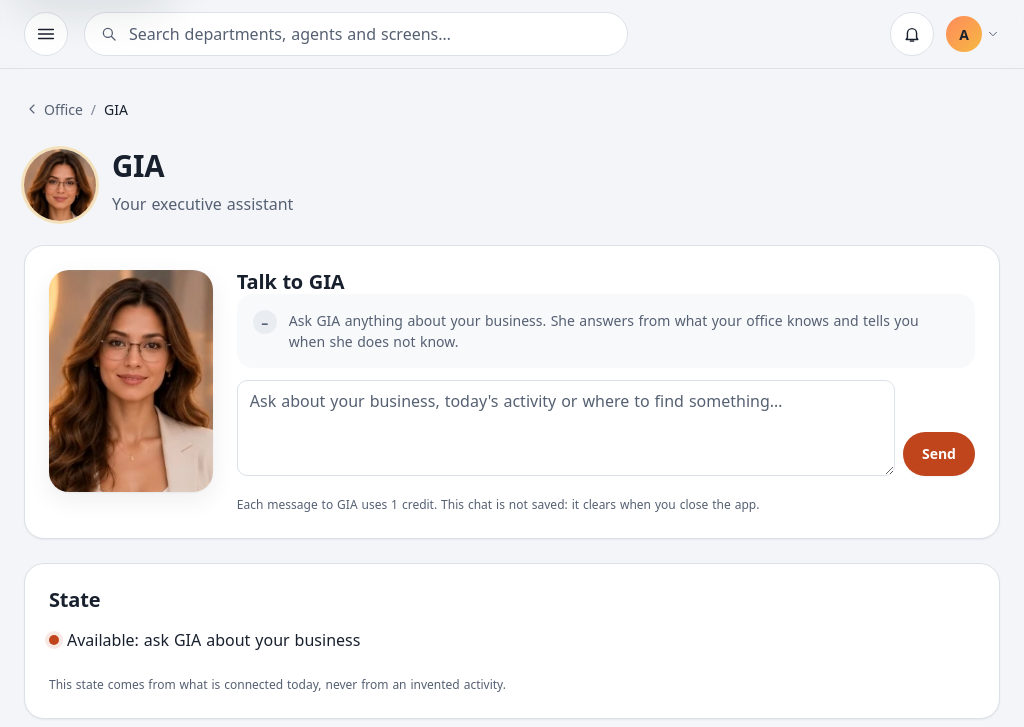
Test: GIA's chat follows the newest message (forecasting UX) › scrolls to a new answer when the person is at the end of the log
Replace the text in the text box named "Your message to GIA" with "¿Cuánto venderemos el próximo mes?". click: (566, 428)
box: [237,380,895,476]
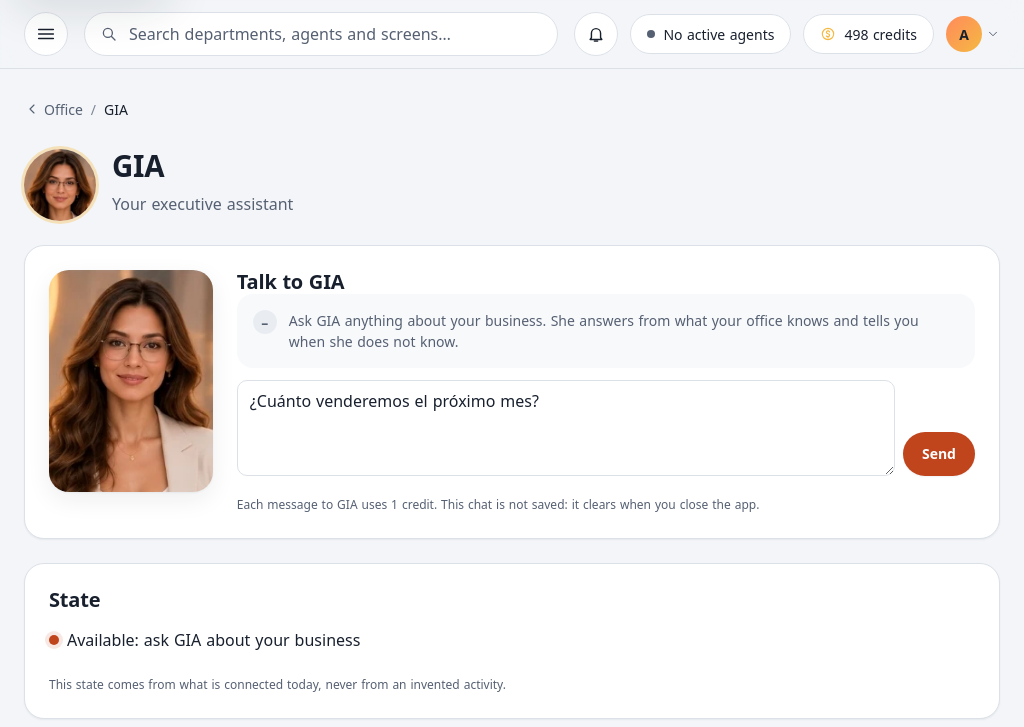
Click the button "Send". click: (939, 454)
box: [903,432,975,476]
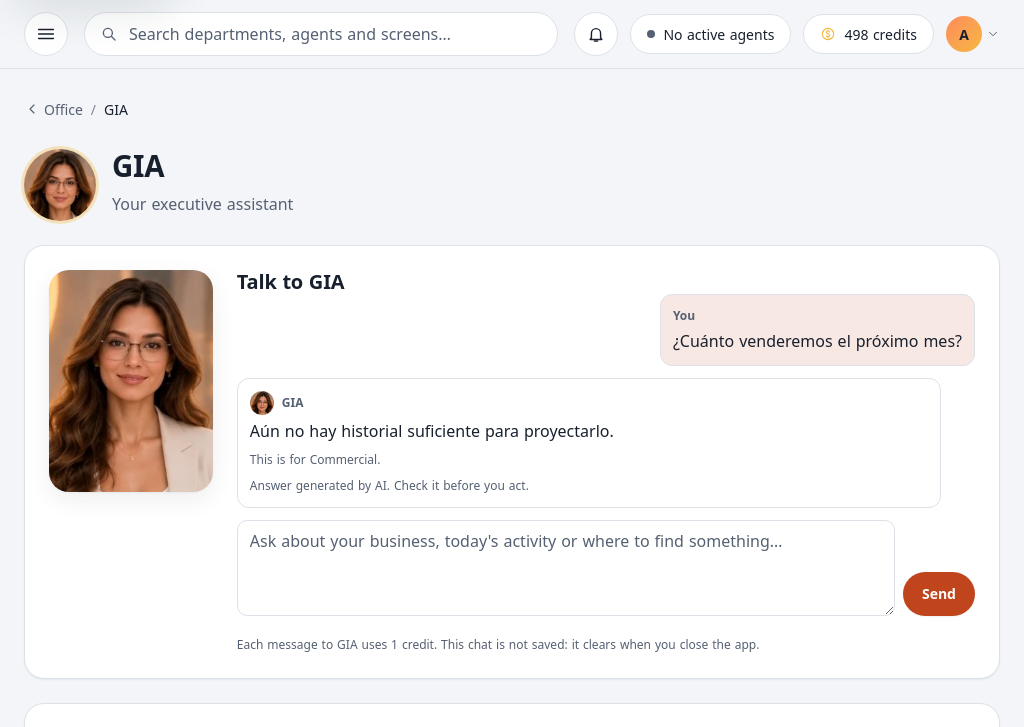
Check: the text "Aún no hay historial suficiente para proyectarlo." is shown once, box [250,420,614,442]
Replace the text in the text box named "Your message to GIA" with "Proyecta nuestras ventas de los próximos 30 días.". click: (566, 568)
box: [237,520,895,616]
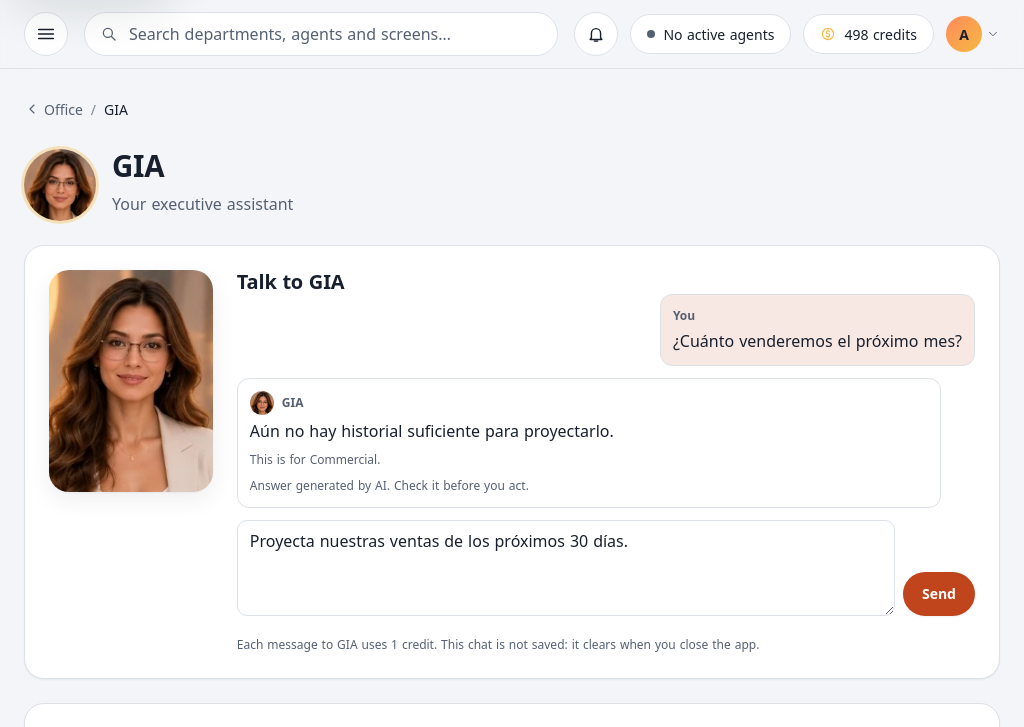
Click the button "Send". click: (939, 594)
box: [903,572,975,616]
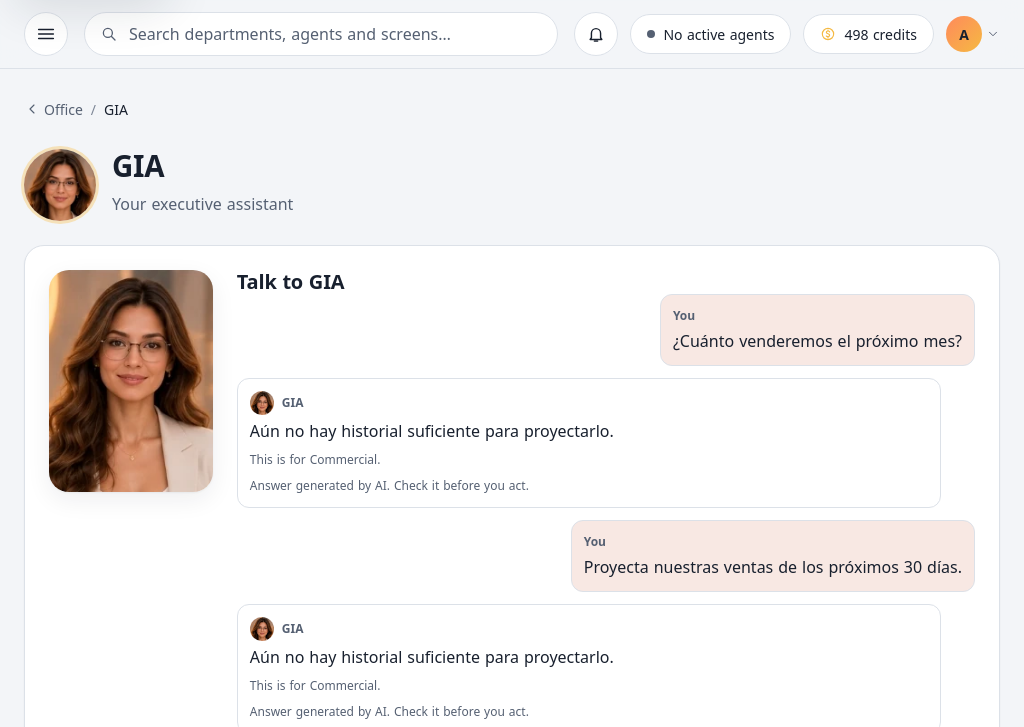
Check: the text "Aún no hay historial suficiente para proyectarlo." is shown 2 times, box [250,420,614,442]; [250,646,614,668]
